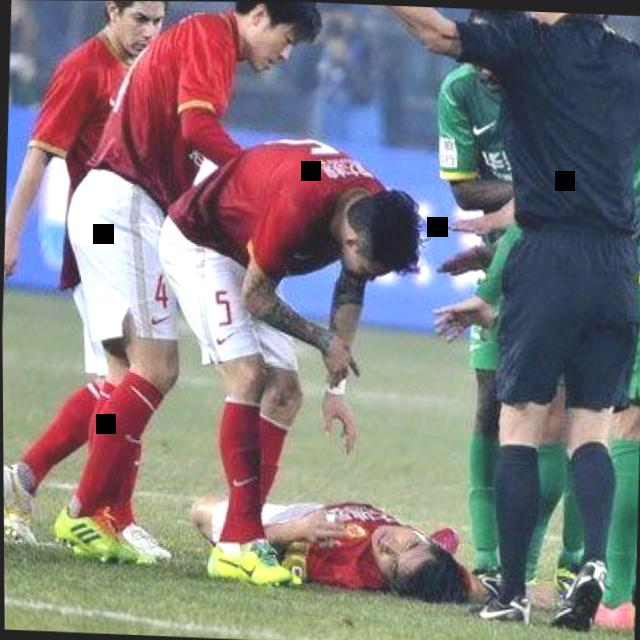Fall-Detected: (180, 472, 495, 609)
